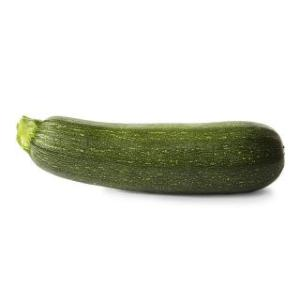zucchini: (28, 95, 284, 202)
